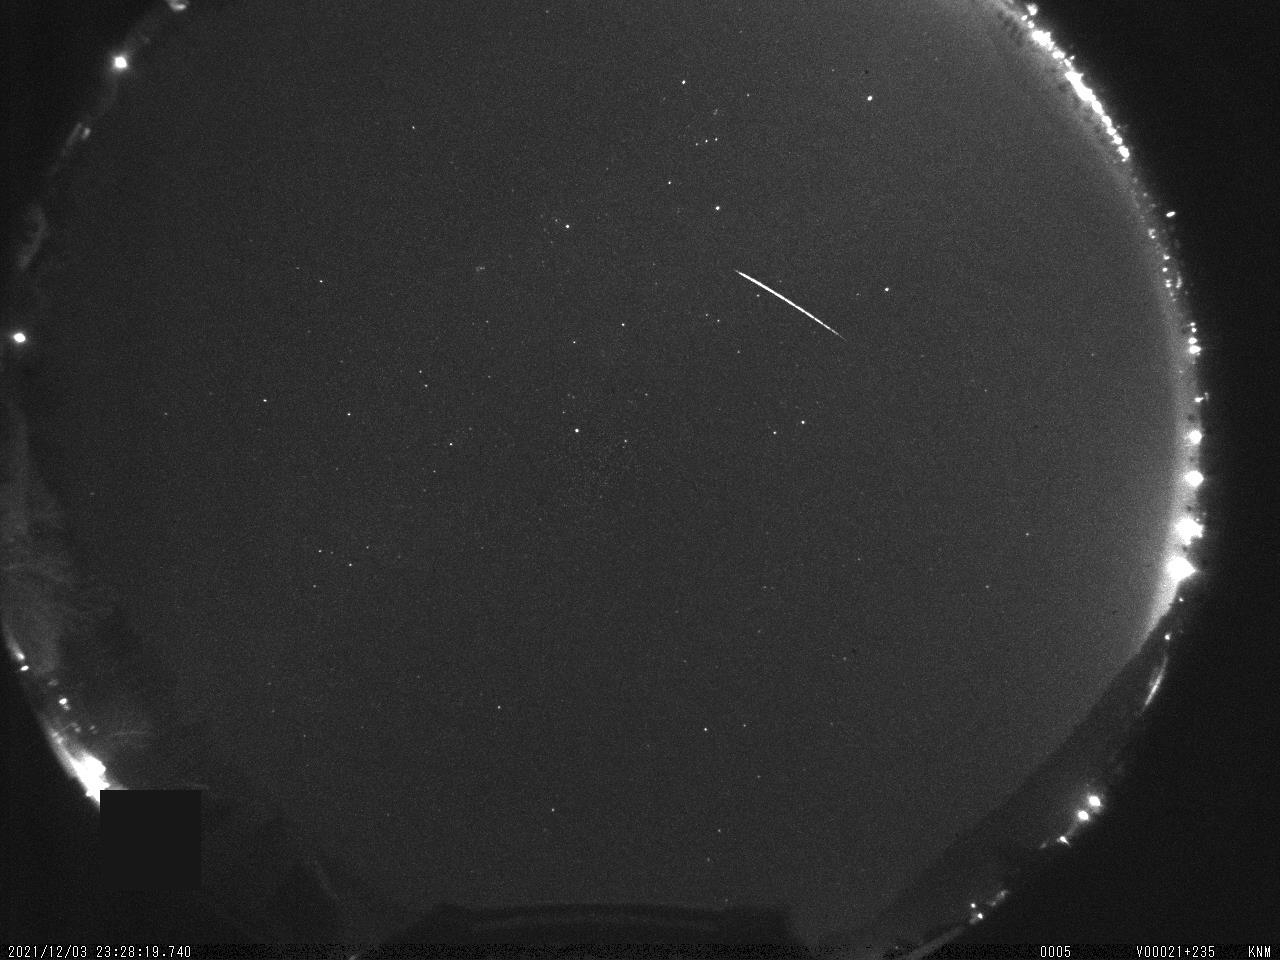meteor: (722, 257, 857, 340)
